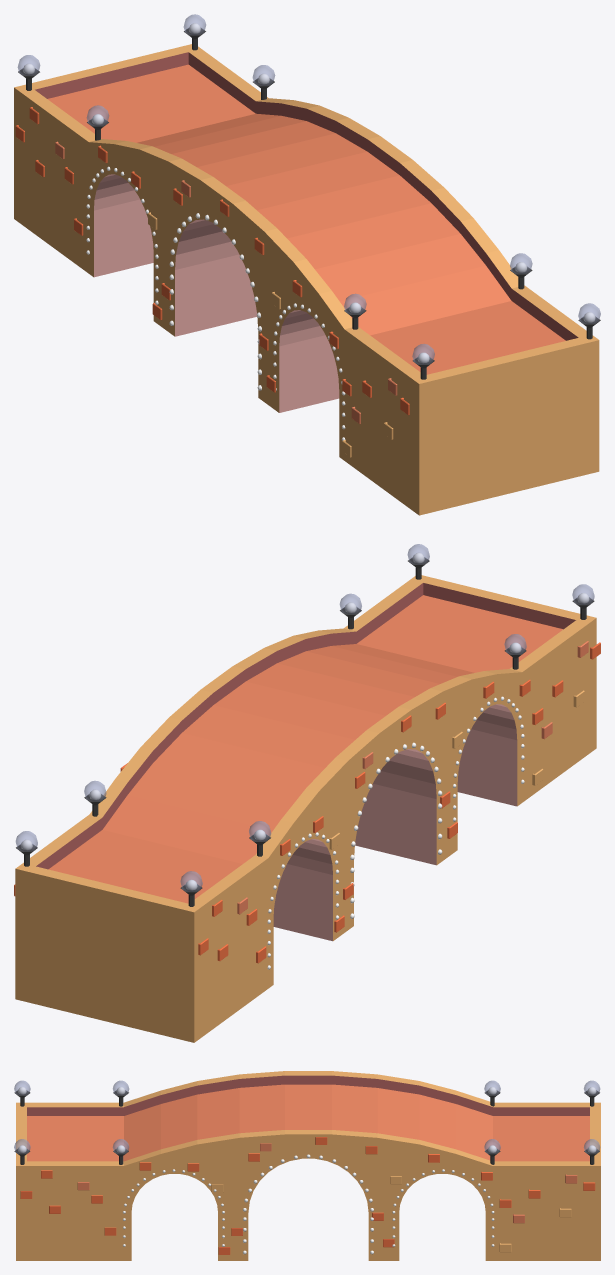
Rendered from bridge_lv1-2.fbx.
The picture shows the model from 3 angles, top to bottom: view 1: azimuth 30°, elevation 25°; view 2: azimuth 150°, elevation 25°; view 3: azimuth 270°, elevation 25°; orthographic projection. The views are drawn at different scales.
Parts seen in each view (by area): view 1: bridge_lv1-2; view 2: bridge_lv1-2; view 3: bridge_lv1-2.
Part boxes in pixels (x1,y1,x2,y2): bridge_lv1-2: (14, 14, 600, 515); bridge_lv1-2: (14, 544, 600, 1042); bridge_lv1-2: (14, 1071, 600, 1260).
Size of the model in its own units: 790 by 684 by 2874.
